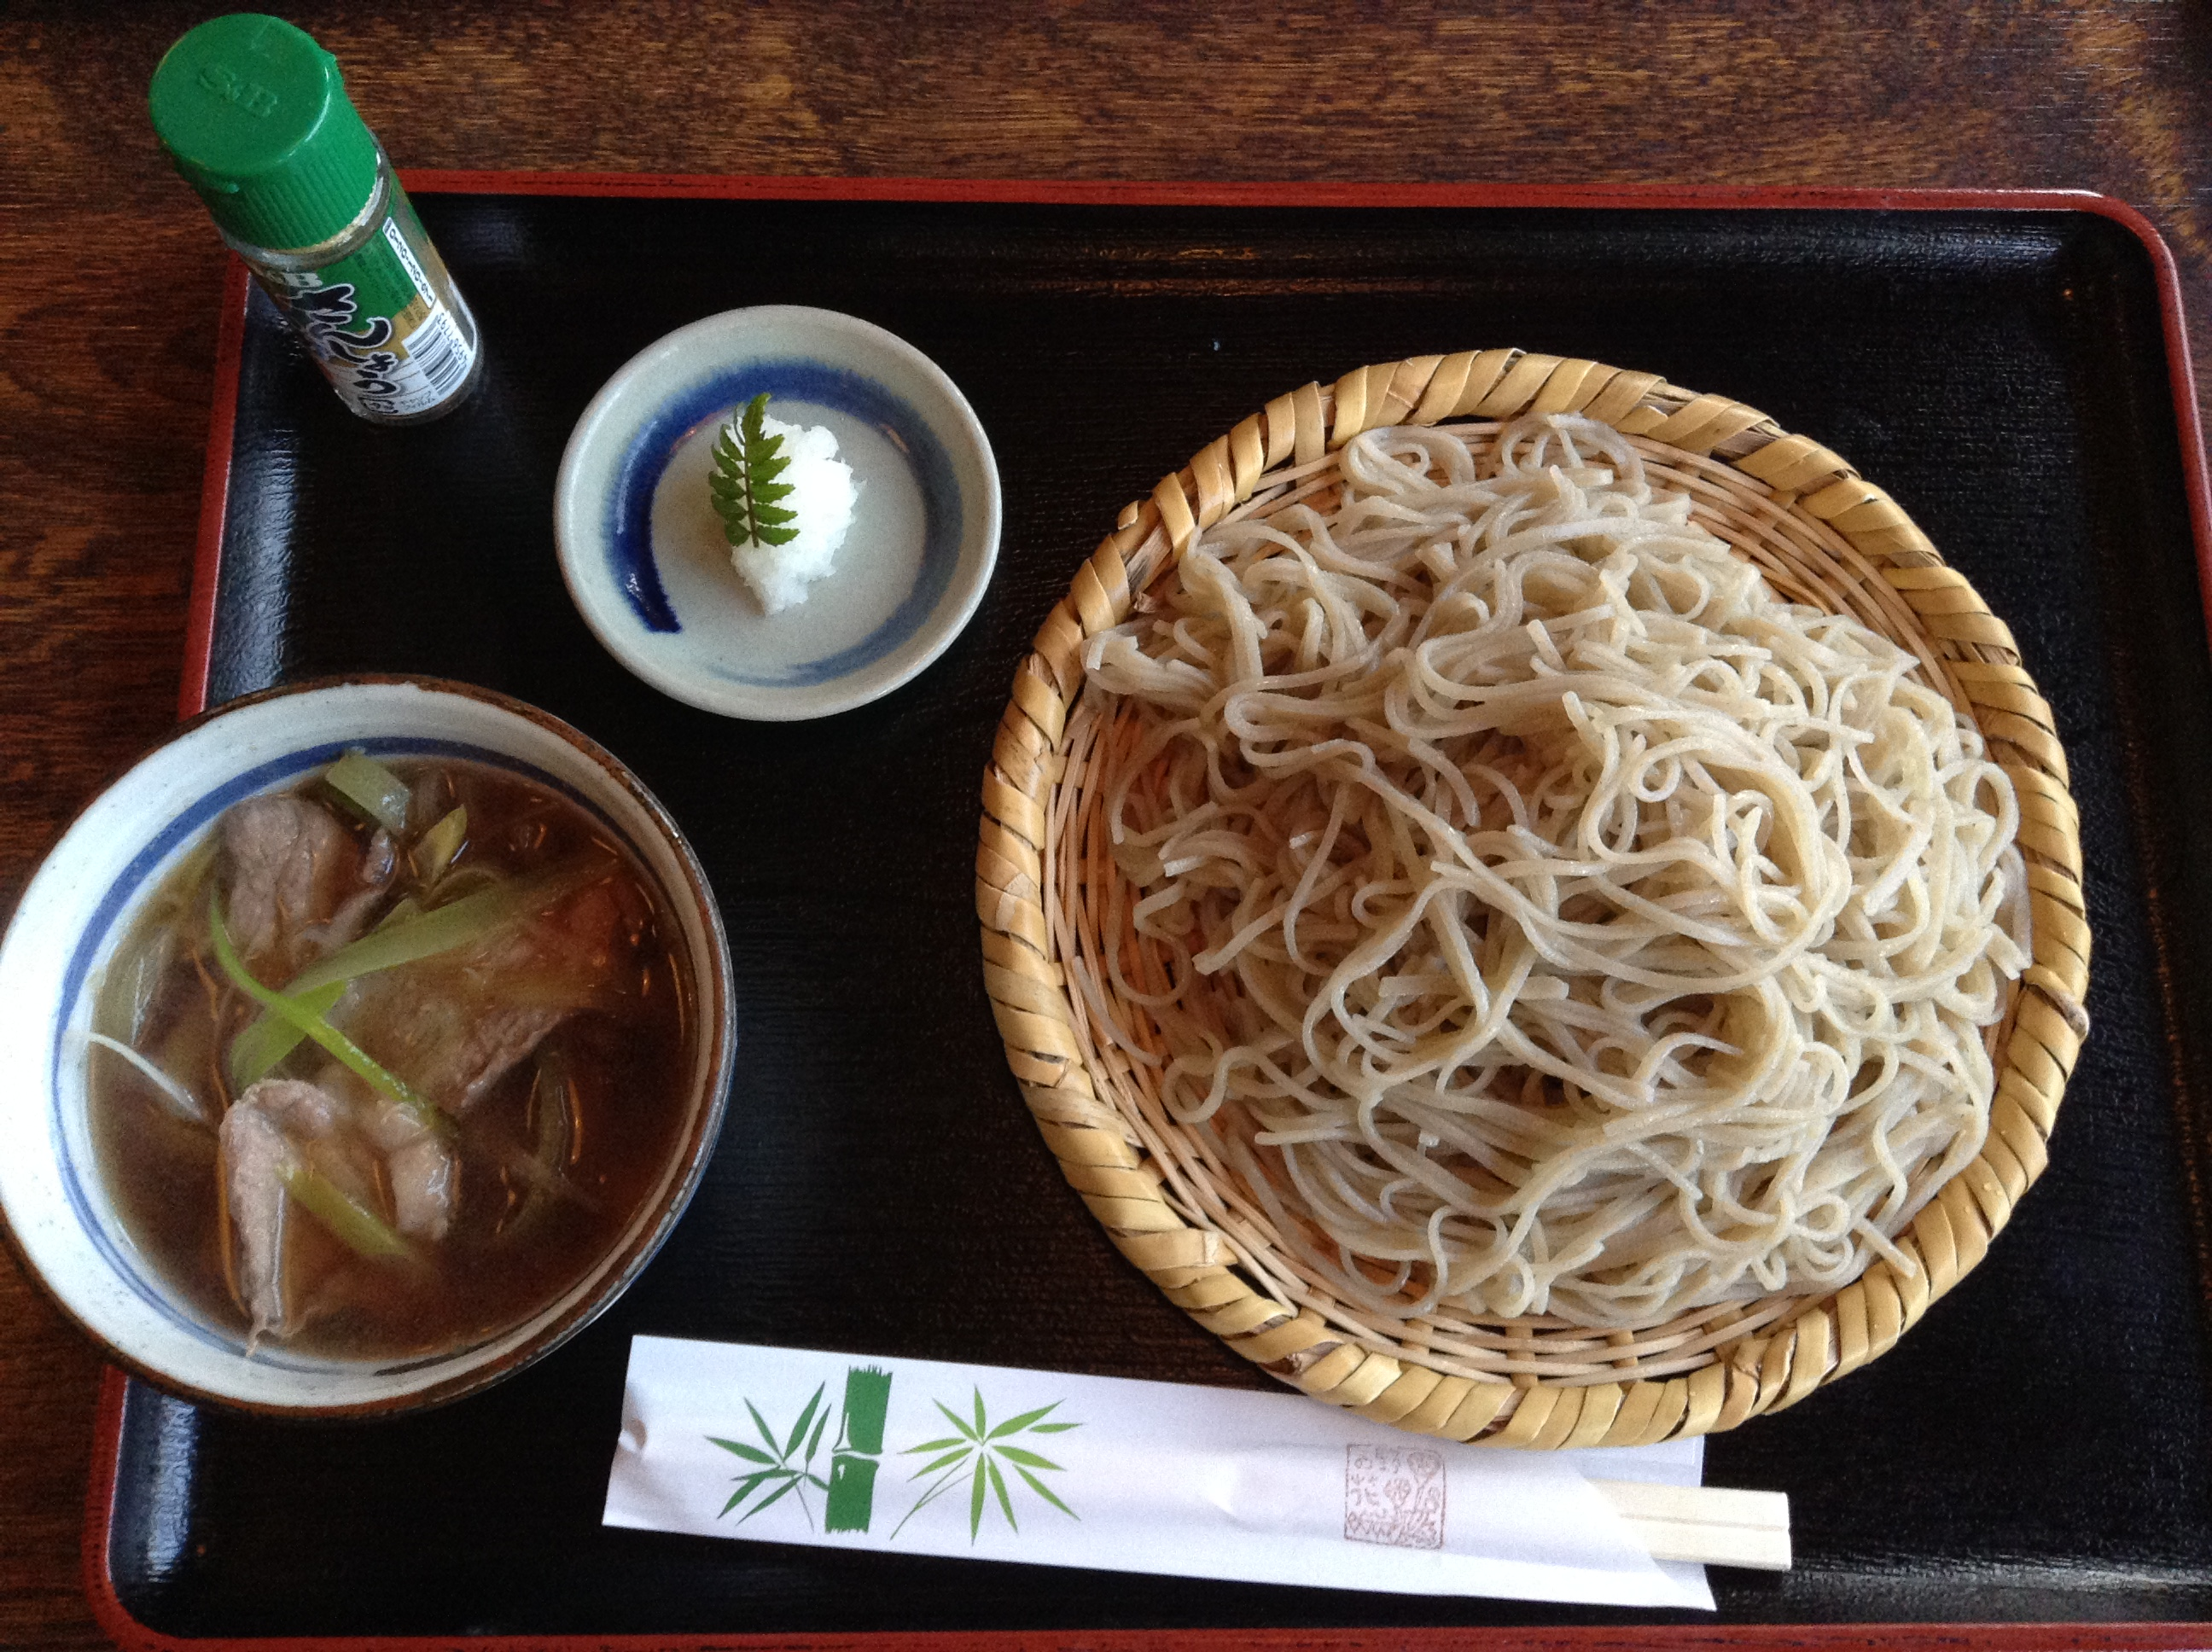Soba: (1109, 408, 2066, 1333)
